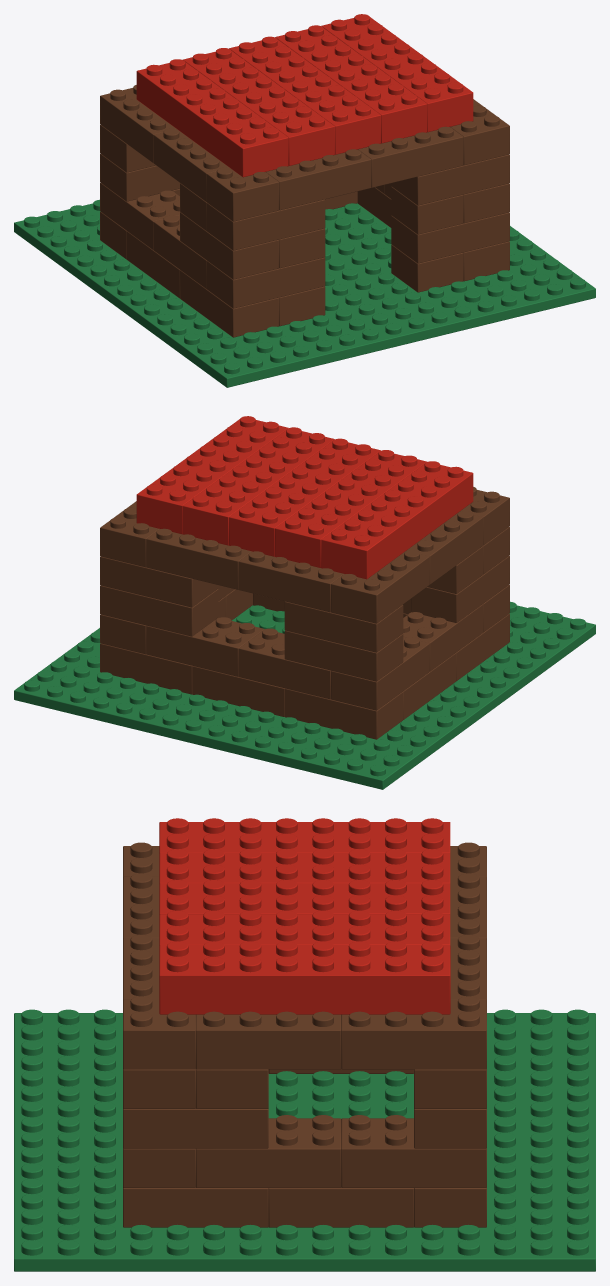
The model's file is HouseEra1.fbx.
The picture shows the model from 3 angles, top to bottom: view 1: azimuth 30°, elevation 25°; view 2: azimuth 150°, elevation 25°; view 3: azimuth 270°, elevation 25°; orthographic projection. The views are drawn at different scales.
Visible parts, largest first — view 1: 00001_91405.dat, 00041_3007.dat, 00043_3007.dat, 00044_3007.dat, 00042_3007.dat, 00045_3007.dat, 00031_3001.dat, 00032_3001.dat, 00011_3001.dat, 00025_3001.dat, 00012_3001.dat, 00028_3001.dat (+20 smaller); view 2: 00001_91405.dat, 00041_3007.dat, 00043_3007.dat, 00044_3007.dat, 00042_3007.dat, 00045_3007.dat, 00036_3001.dat, 00038_3001.dat, 00037_3001.dat, 00017_3001.dat, 00018_3001.dat, 00026_3001.dat (+19 smaller); view 3: 00001_91405.dat, 00044_3007.dat, 00042_3007.dat, 00041_3007.dat, 00043_3007.dat, 00045_3007.dat, 00034_3001.dat, 00033_3001.dat, 00013_3001.dat, 00014_3001.dat, 00022_3001.dat, 00007_3001.dat (+15 smaller).
Boxes of the visible parts, box(x1,y1,x2,y2) form: 00001_91405.dat: box(14, 199, 595, 387); 00041_3007.dat: box(136, 59, 288, 177); 00043_3007.dat: box(275, 25, 427, 143); 00044_3007.dat: box(321, 14, 473, 132); 00042_3007.dat: box(183, 48, 334, 165); 00045_3007.dat: box(229, 36, 380, 154); 00031_3001.dat: box(266, 149, 371, 210); 00032_3001.dat: box(358, 126, 463, 187); 00011_3001.dat: box(206, 257, 325, 308); 00025_3001.dat: box(206, 199, 325, 250); 00012_3001.dat: box(391, 212, 509, 263); 00028_3001.dat: box(391, 154, 509, 205); 00001_91405.dat: box(14, 601, 595, 789); 00041_3007.dat: box(321, 461, 473, 579); 00043_3007.dat: box(182, 427, 334, 545); 00044_3007.dat: box(136, 416, 288, 534); 00042_3007.dat: box(275, 450, 426, 567); 00045_3007.dat: box(229, 438, 380, 556); 00036_3001.dat: box(331, 550, 429, 623); 00038_3001.dat: box(238, 551, 343, 612); 00037_3001.dat: box(146, 528, 251, 589); 00017_3001.dat: box(146, 617, 264, 676); 00018_3001.dat: box(238, 628, 330, 699); 00026_3001.dat: box(284, 601, 403, 652); 00001_91405.dat: box(14, 1009, 595, 1271); 00044_3007.dat: box(159, 941, 450, 1014); 00042_3007.dat: box(159, 849, 450, 883); 00041_3007.dat: box(159, 818, 450, 853); 00043_3007.dat: box(159, 910, 450, 945); 00045_3007.dat: box(159, 880, 450, 914); 00034_3001.dat: box(341, 996, 486, 1069); 00033_3001.dat: box(196, 1011, 341, 1069); 00013_3001.dat: box(196, 1115, 341, 1187); 00014_3001.dat: box(341, 1115, 486, 1187); 00022_3001.dat: box(123, 1108, 268, 1148); 00007_3001.dat: box(123, 1187, 268, 1227).
Size of the model in its own units: 1280 by 1280 by 624.
